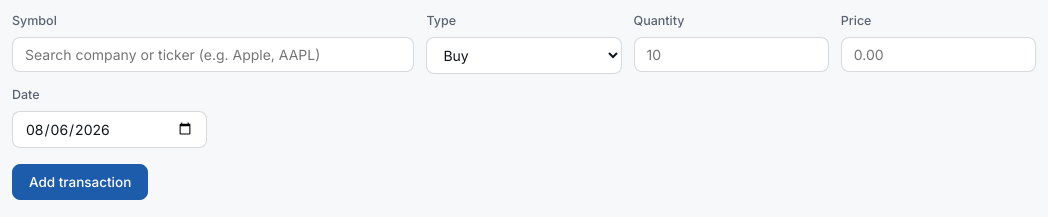
Test: TransactionForm › shows the buy-lot picker once SELL is selected
Select "Sell" in the dropdown labelled "Type": (524, 55) left=426, top=37, right=622, bottom=74
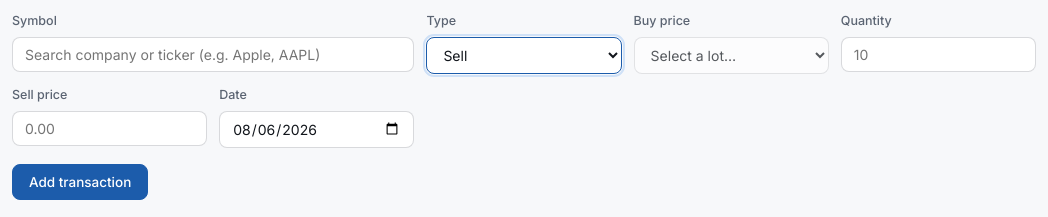
Now the dropdown labelled "Buy price" is shown, box left=634, top=37, right=829, bottom=74
